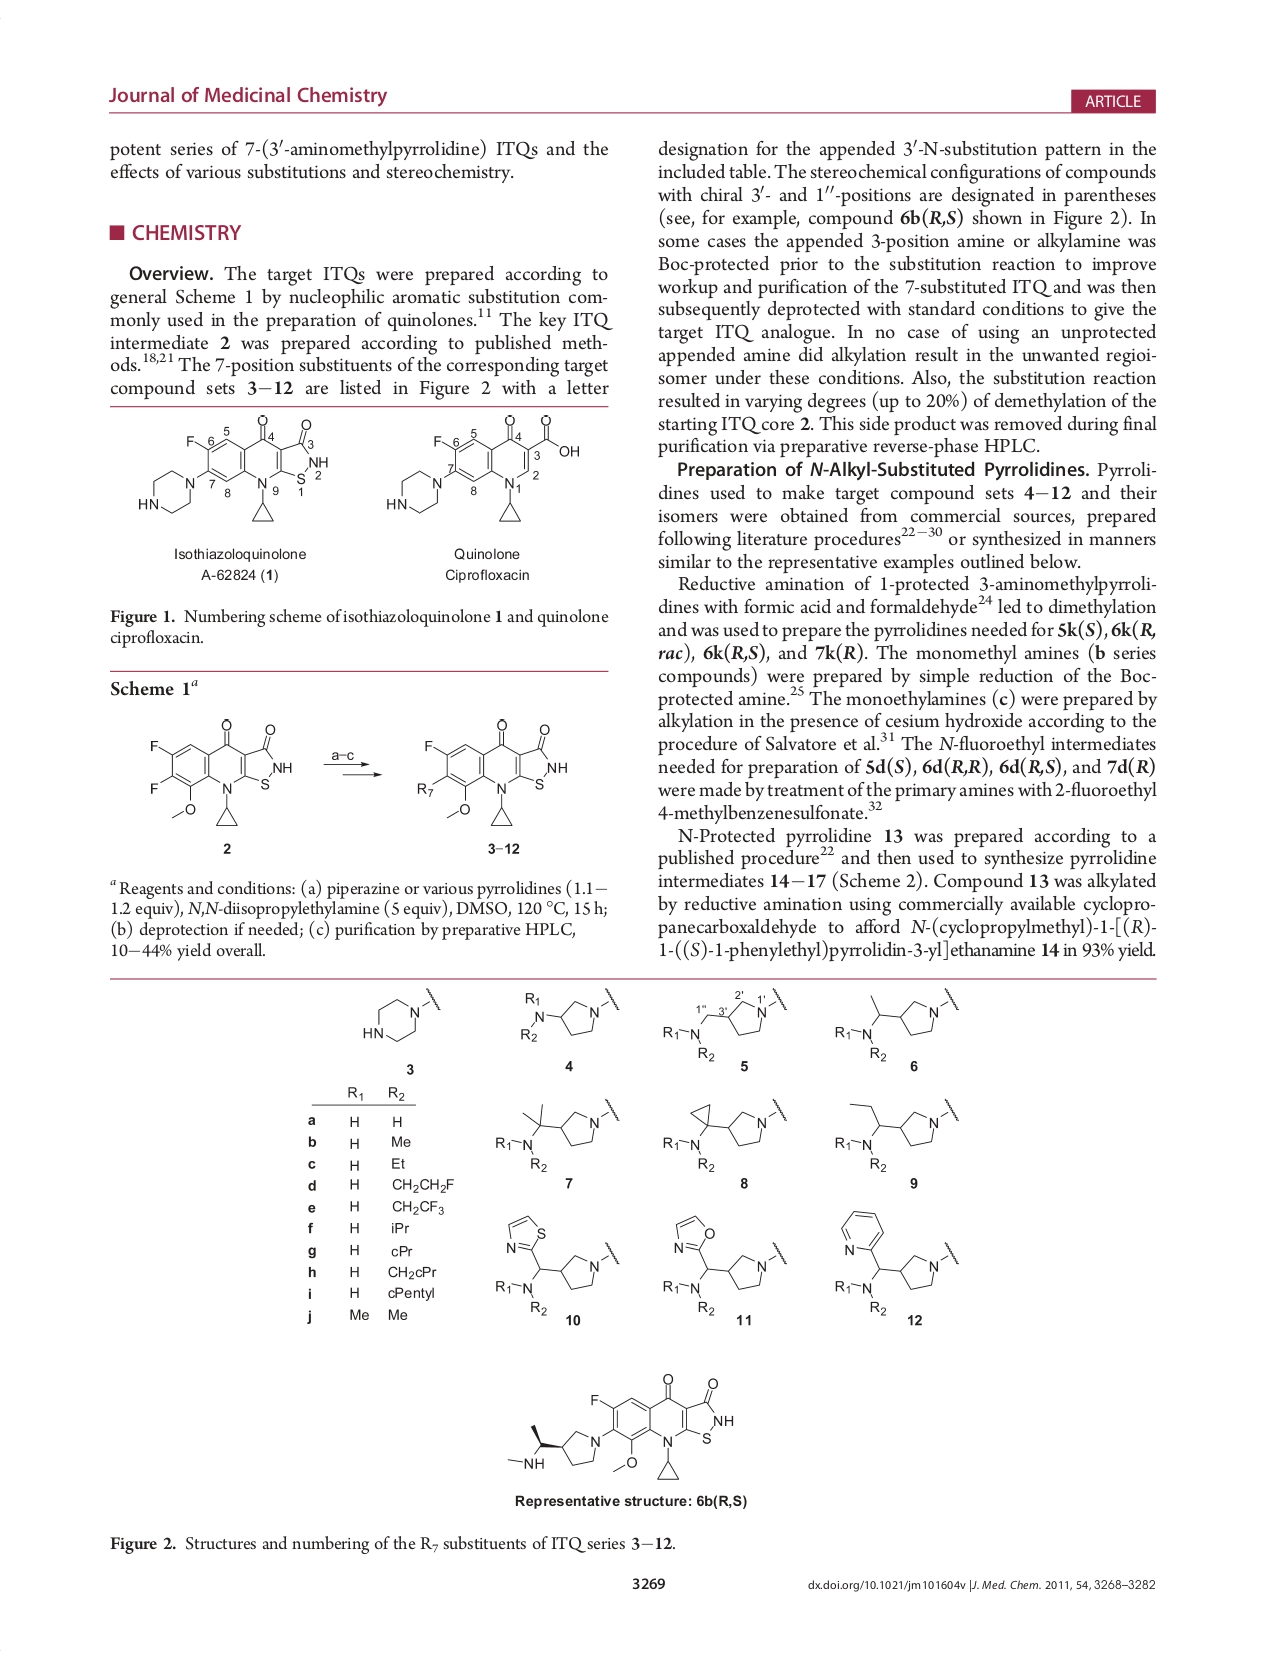exist_molecular: (504, 1368, 735, 1485), (382, 412, 582, 531), (136, 411, 328, 527), (411, 714, 570, 833), (148, 714, 297, 829), (828, 1206, 961, 1318), (656, 1210, 789, 1321), (489, 1210, 621, 1318), (491, 1094, 625, 1174), (828, 1094, 961, 1174), (656, 1094, 789, 1174), (657, 985, 789, 1064), (832, 985, 959, 1064), (517, 985, 622, 1045), (356, 985, 442, 1045)
